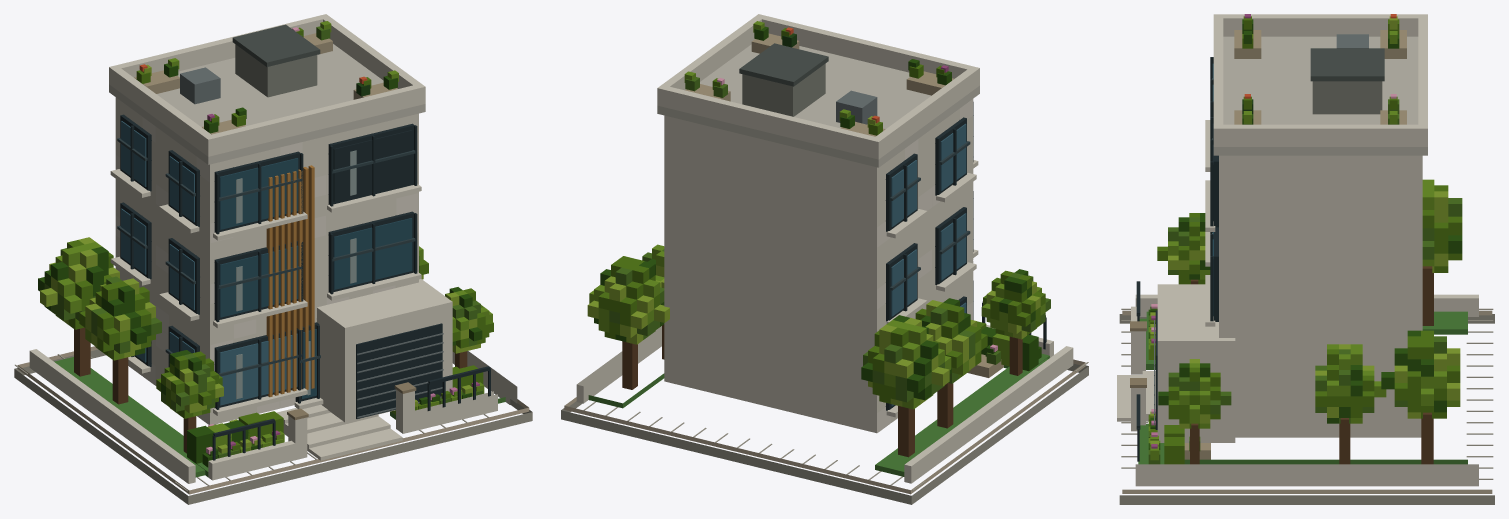
The model's file is SM_StreetFrontage_013.fbx.
3 renders of one model, left to right at view 1: azimuth 30°, elevation 25°; view 2: azimuth 150°, elevation 25°; view 3: azimuth 270°, elevation 25°, orthographic. The views are drawn at different scales.
Visible parts, largest first — view 1: SM_StreetFrontage_013; view 2: SM_StreetFrontage_013; view 3: SM_StreetFrontage_013.
Part boxes in pixels (bbox=[...]): SM_StreetFrontage_013: bbox=[14, 14, 532, 504]; SM_StreetFrontage_013: bbox=[561, 14, 1088, 504]; SM_StreetFrontage_013: bbox=[1117, 14, 1494, 504].
Size of the model in its own units: 8 by 6.99 by 7.42.
